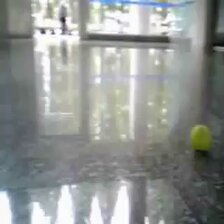tennis: (190, 125, 211, 150)
